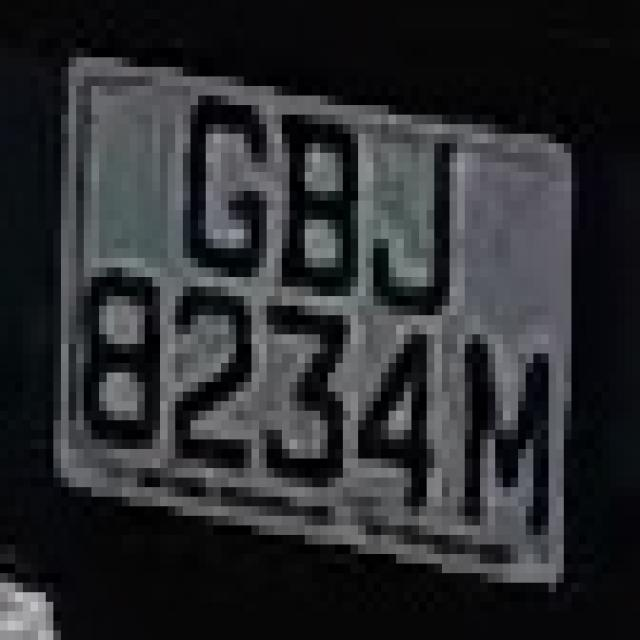2: (152, 239, 267, 516)
3: (244, 268, 358, 526)
4: (343, 315, 442, 554)
8: (53, 210, 168, 468)
B: (259, 86, 358, 344)
G: (160, 67, 282, 296)
J: (342, 86, 488, 344)
M: (442, 315, 556, 535)
